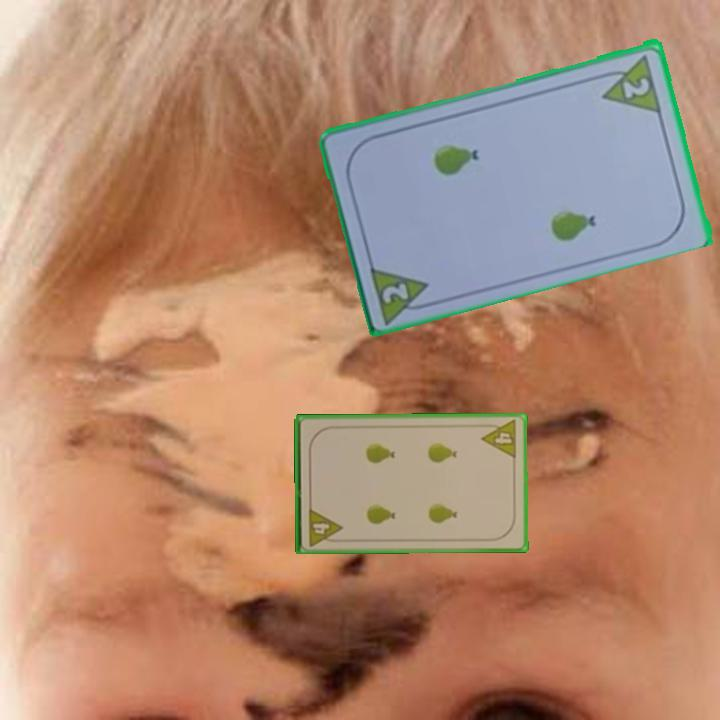2p: (366, 260, 438, 325), (594, 50, 665, 115)
4p: (478, 417, 520, 461), (305, 504, 344, 549)
